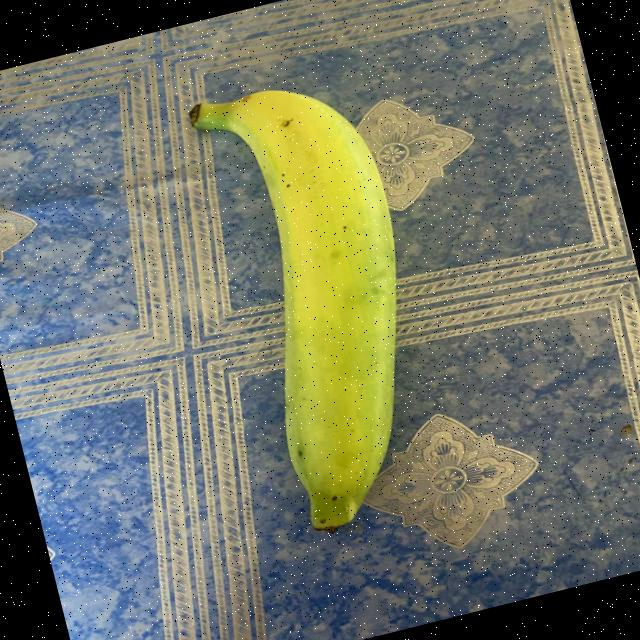Ripe: (136, 26, 503, 596)
